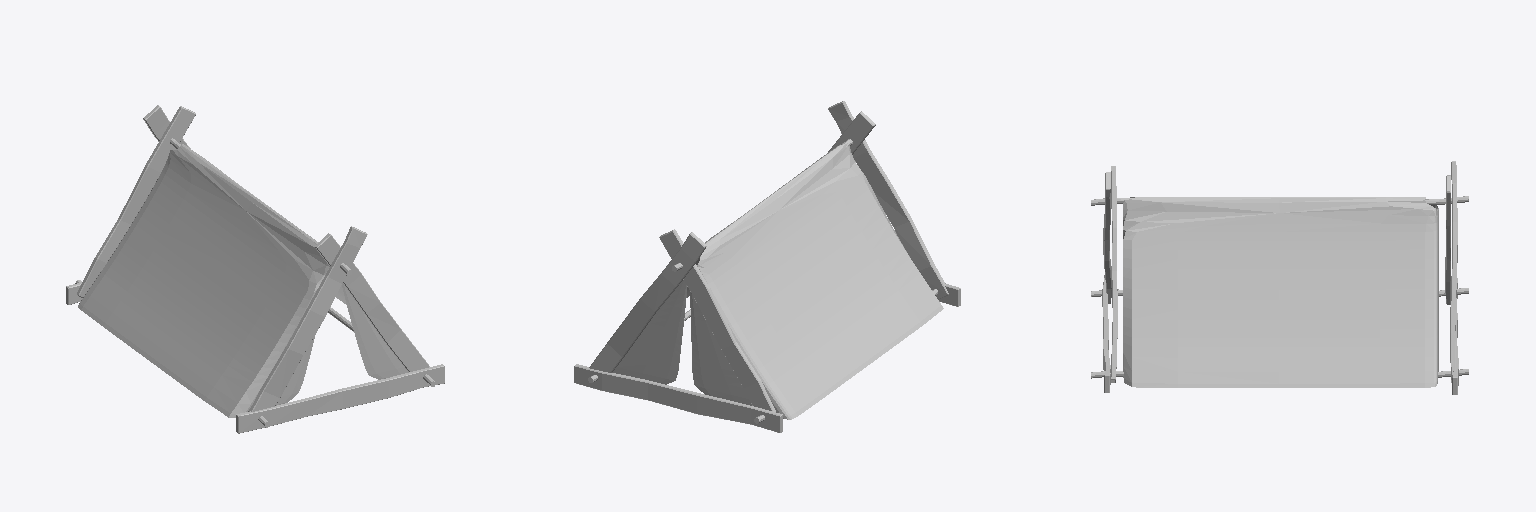
The model's file is lowpoly_viking_tent_005.obj.
3 renders of one model, left to right at view 1: azimuth 30°, elevation 25°; view 2: azimuth 150°, elevation 25°; view 3: azimuth 270°, elevation 25°, orthographic.
Visible parts, largest first — view 1: Plane.005, Cube.020, Cube.018, Cube.019, Cube.021, Cube.022; view 2: Plane.005, Cube.023, Cube.020, Cube.022, Cube.019, Cube.021; view 3: Plane.005, Cube.022, Cube.021, Cube.020, Cube.019, Cube.018.
Part boxes in pixels (x1,y1,x2,y2): Plane.005: (78, 144, 408, 417); Cube.020: (249, 226, 367, 411); Cube.018: (236, 364, 444, 433); Cube.019: (77, 106, 195, 297); Cube.021: (315, 233, 429, 371); Cube.022: (143, 105, 190, 149); Plane.005: (612, 143, 943, 419); Cube.023: (574, 364, 782, 432); Cube.020: (828, 101, 948, 299); Cube.022: (589, 232, 706, 372); Cube.019: (659, 229, 775, 411); Cube.021: (828, 111, 875, 154); Plane.005: (1123, 197, 1438, 387); Cube.022: (1450, 161, 1457, 382); Cube.021: (1111, 166, 1117, 382); Cube.020: (1103, 172, 1111, 303); Cube.019: (1445, 175, 1450, 304); Cube.018: (1102, 275, 1110, 392).
Size of the model in its own units: 5.74 by 4.64 by 8.92.